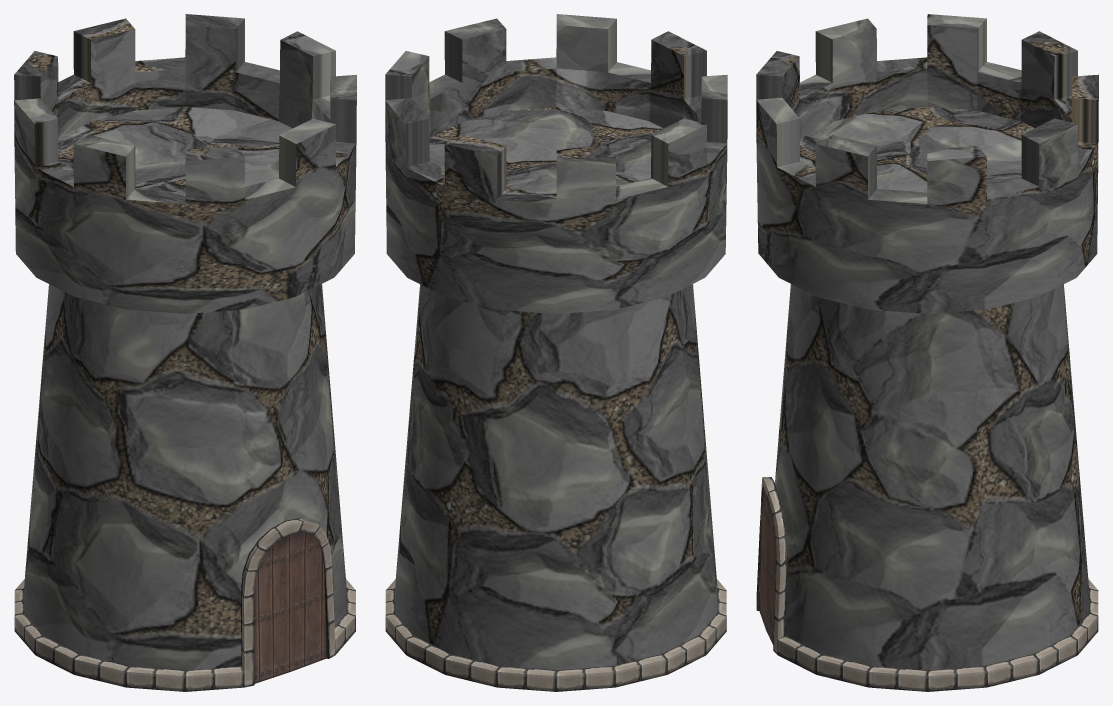
The model's file is torni.FBX.
The picture shows the model from 3 angles, left to right: view 1: azimuth 30°, elevation 25°; view 2: azimuth 150°, elevation 25°; view 3: azimuth 270°, elevation 25°; orthographic projection.
Parts seen in each view (by area): view 1: torni, kivijalka; view 2: torni, kivijalka; view 3: torni, kivijalka.
Boxes of the visible parts, x1,y1,x2,y2 form: torni: (14, 14, 356, 670); kivijalka: (14, 518, 355, 691); torni: (385, 14, 727, 670); kivijalka: (385, 579, 726, 691); torni: (756, 14, 1098, 670); kivijalka: (756, 477, 1098, 691).
Size of the model in its own units: 164 by 276 by 161.
